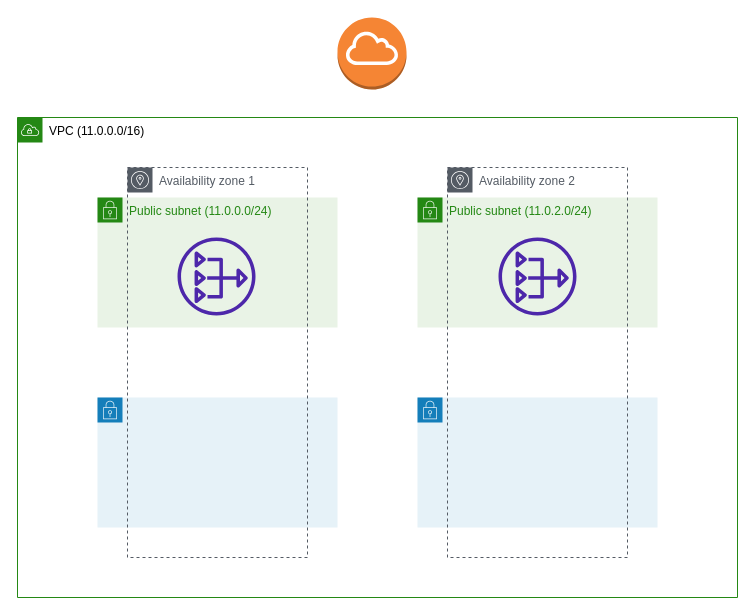
Some shapes in this 755 by 615 pixel diagram are drawn without their labels. The centre of each missing label's shape, as x and y in pixels:
Private subnet (11.0.1.0/24): (x=217, y=462)
Private subnet (11.0.3.0/24): (x=537, y=462)
